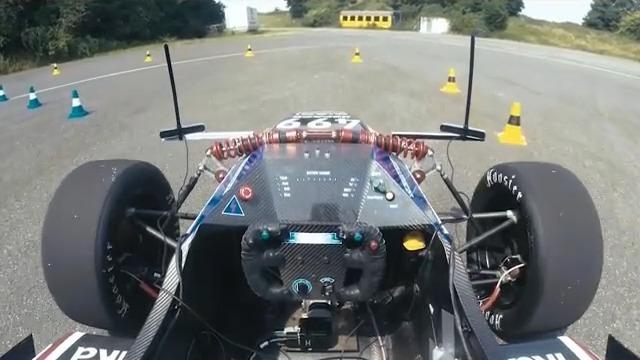blue_cone: (68, 89, 90, 119), (27, 86, 43, 110), (0, 85, 10, 103)
yellow_cone: (497, 101, 528, 145), (440, 68, 461, 94), (351, 48, 364, 64), (245, 44, 254, 57), (52, 64, 61, 76), (145, 51, 153, 62)
